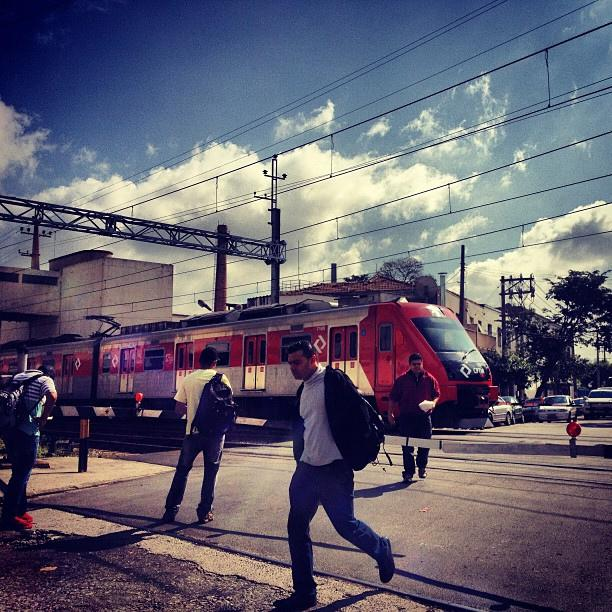Train: (24, 302, 503, 439)
